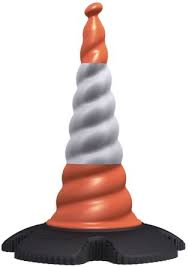cones: (6, 7, 185, 265)
